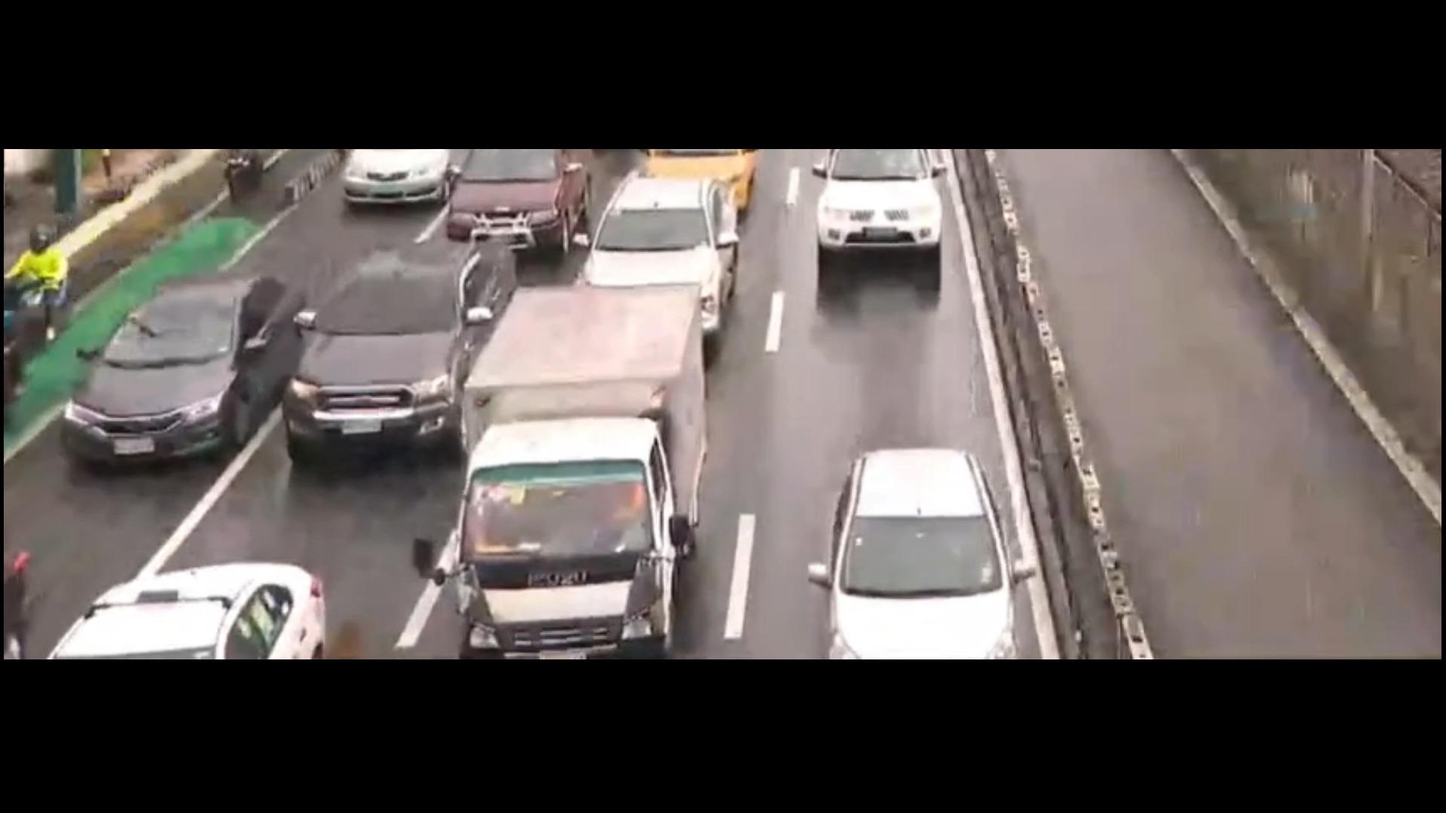Motorcycle: (0, 228, 83, 407)
SUV: (244, 221, 529, 477), (816, 416, 1025, 666), (576, 181, 759, 331), (444, 143, 588, 259)
Sedan: (64, 254, 311, 483), (49, 552, 349, 664)
Truck: (435, 279, 727, 658)
